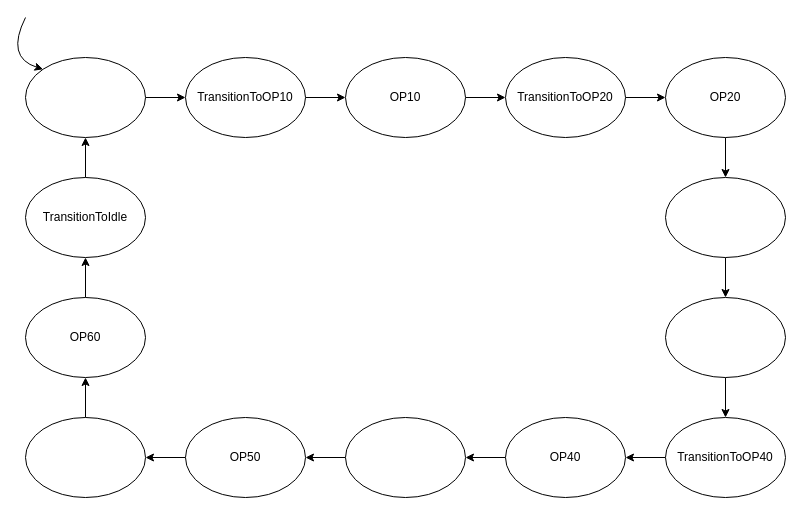
Image size: 803x515. Some labels were removed from this diagram. Each missing label, with the centre of its shape:
"Idle" goes at [85,97].
"OP30" goes at [725,337].
"TransitionToOP30" goes at [725,217].
"TransitionToOP50" goes at [405,457].
"TransitionToOP60" goes at [85,457].
